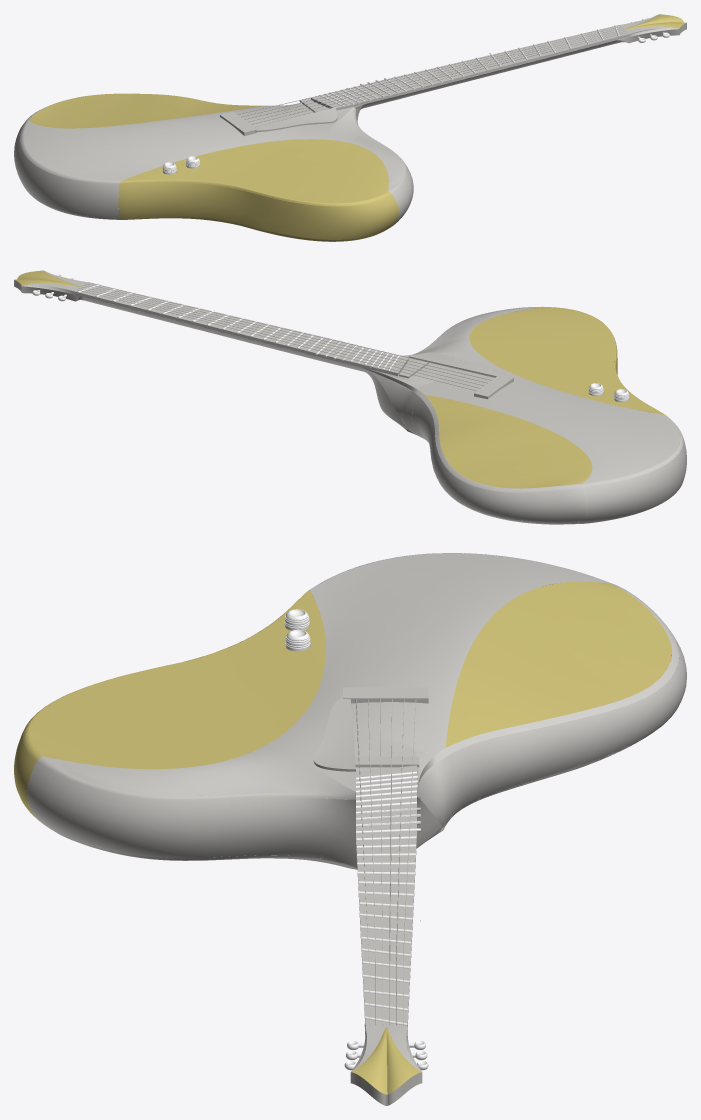
Rendered from guitar.glb.
3 renders of one model, top to bottom at view 1: azimuth 30°, elevation 25°; view 2: azimuth 150°, elevation 25°; view 3: azimuth 270°, elevation 25°, orthographic. The views are drawn at different scales.
Visible parts, largest first — view 1: Shell (×19); view 2: Shell (×19); view 3: Shell (×21).
Part boxes in pixels (x1,y1,x2,y2): Shell (×19): (14,25,629,241); Shell (×19): (75,282,686,522); Shell (×21): (14,553,686,1094).
Size of the model in its own units: 1.09 by 0.0858 by 0.5663.
